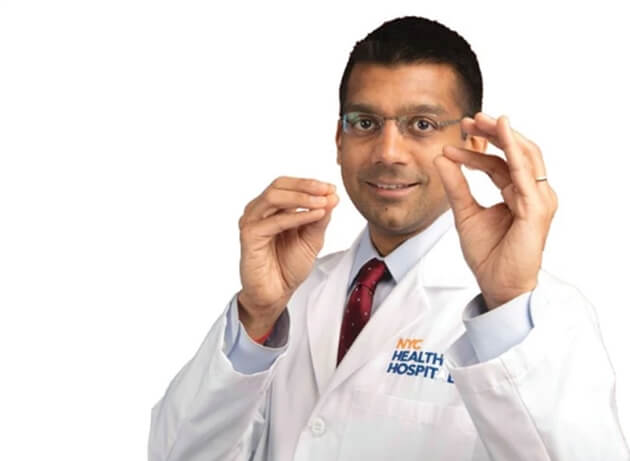hand: (434, 112, 562, 298), (236, 171, 341, 308)
